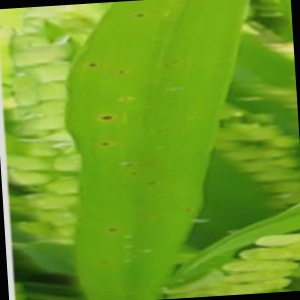Bacterial_Leaf_Blight: (116, 90, 136, 104), (96, 256, 114, 271), (97, 111, 117, 124), (131, 8, 150, 20), (97, 137, 114, 149), (113, 66, 129, 78), (145, 176, 160, 188), (117, 180, 132, 192), (84, 58, 100, 69), (123, 158, 137, 170), (105, 224, 120, 235), (182, 203, 194, 216), (134, 210, 148, 221), (153, 126, 166, 137), (129, 166, 140, 178), (153, 216, 164, 226), (161, 62, 174, 70), (166, 17, 176, 27), (170, 57, 181, 66), (145, 81, 157, 89), (147, 76, 155, 83)
